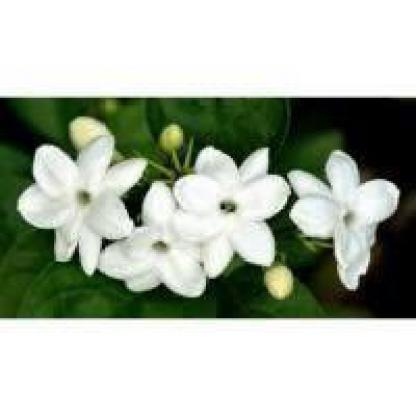Melati: (270, 122, 397, 290), (84, 170, 240, 303), (16, 117, 136, 257), (159, 132, 286, 253)
